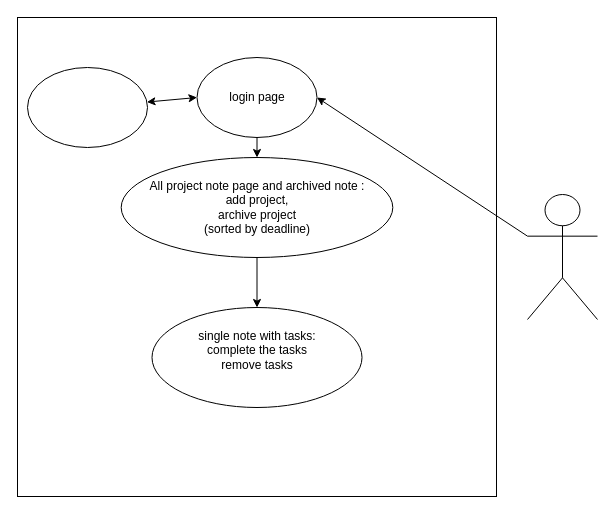
Image size: 615x514. Some labels were removed from this diagram. Here are the shapes that lost their labels. From the top down, the centre of each, then its label:
(x=87, y=107): sign-up page
(x=562, y=257): Actor
